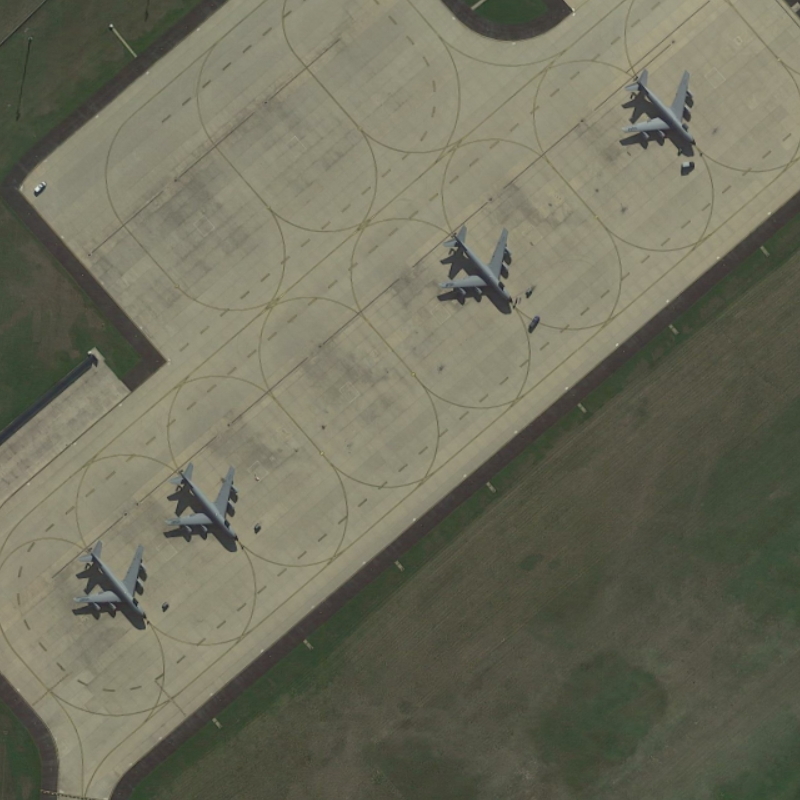A14: (62, 535, 165, 628), (156, 455, 247, 553), (432, 222, 525, 316), (613, 65, 703, 158)
